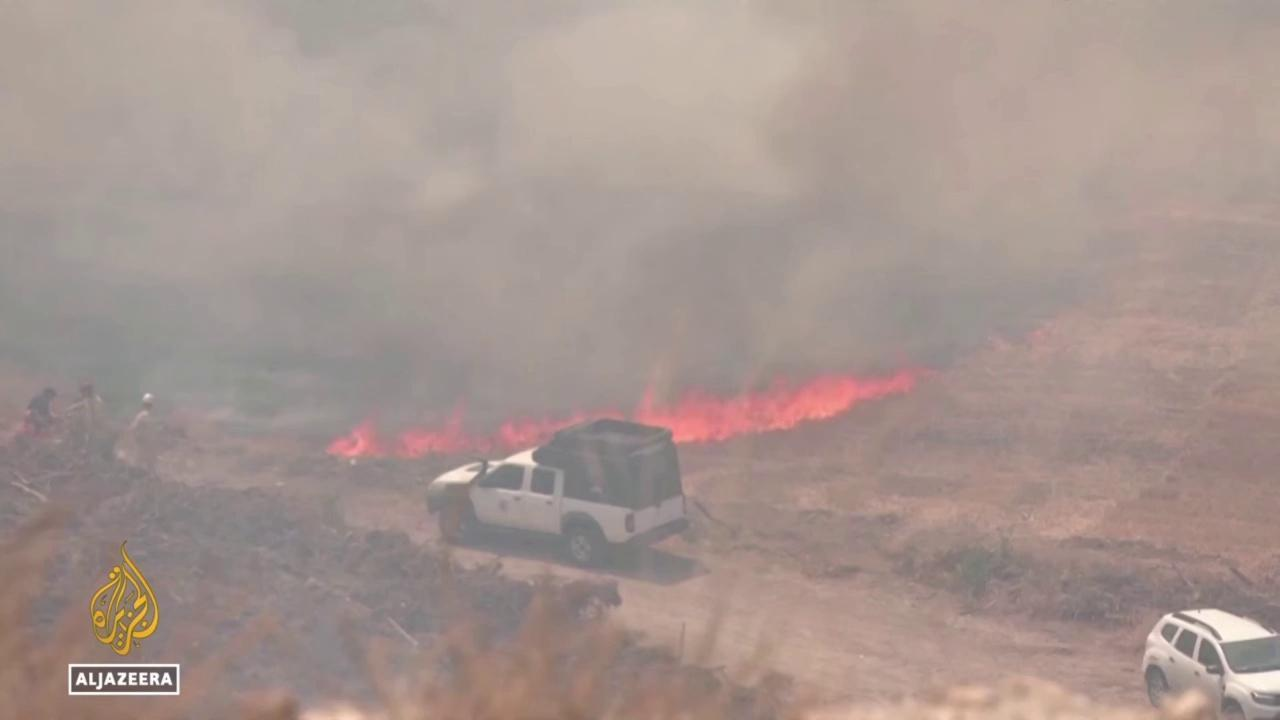fire: (323, 349, 934, 462)
smoke: (0, 0, 1280, 432)
